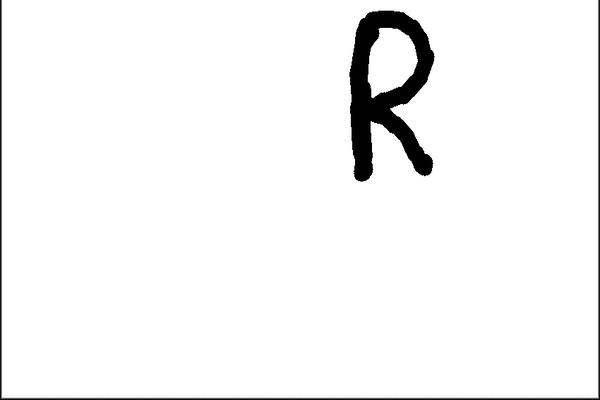R: (341, 3, 450, 189)
